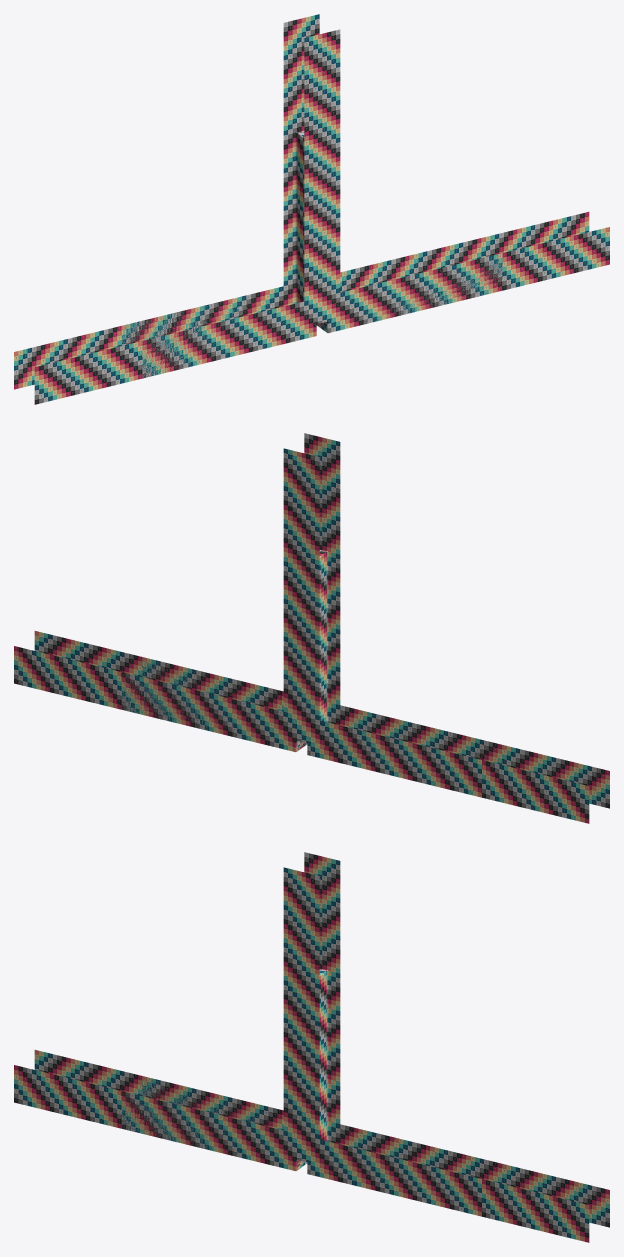
File: wallManualMorph2.glb
3 renders of one model, top to bottom at view 1: azimuth 30°, elevation 25°; view 2: azimuth 150°, elevation 25°; view 3: azimuth 330°, elevation 25°, orthographic.
Visible parts, largest first — view 1: wallMaxWidth, wallHoleMaxWidth, wallMaxHeight, wallHoleMaxHeight, wall; view 2: wallMaxWidth, wallHoleMaxWidth, wallMaxHeight, wallHoleMaxHeight, wall; view 3: wallMaxWidth, wallHoleMaxWidth, wallMaxHeight, wallHoleMaxHeight, wall.
Part boxes in pixels (x1,y1,x2,y2): wallMaxWidth: (14,212,609,404); wallHoleMaxWidth: (121,253,502,378); wallMaxHeight: (283,14,340,326); wallHoleMaxHeight: (283,130,340,338); wall: (283,285,340,338); wallMaxWidth: (14,631,609,823); wallHoleMaxWidth: (121,657,502,797); wallMaxHeight: (283,433,340,745); wallHoleMaxHeight: (283,549,340,757); wall: (283,703,340,757); wallMaxWidth: (14,1050,609,1242); wallHoleMaxWidth: (121,1076,499,1216); wallMaxHeight: (283,852,340,1164); wallHoleMaxHeight: (283,968,340,1176); wall: (283,1122,340,1176).
Bounding box in the file's own units: 16 × 8 × 1.
1 material, 1 textured.
